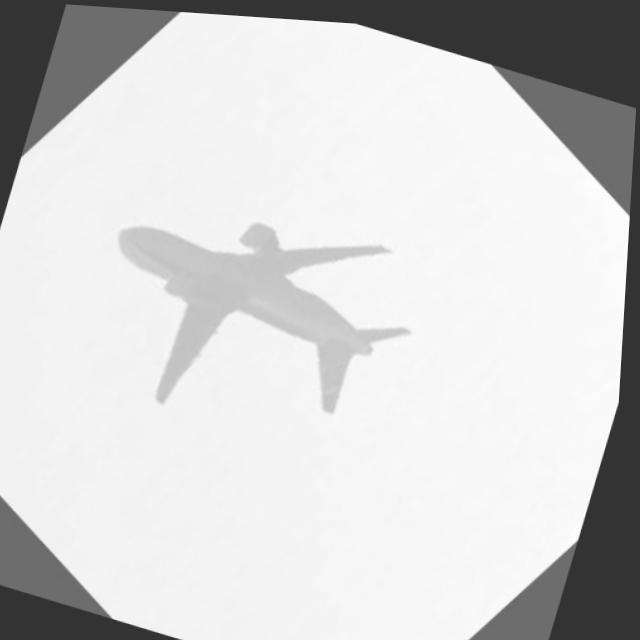aeroplane: (8, 51, 500, 543)
